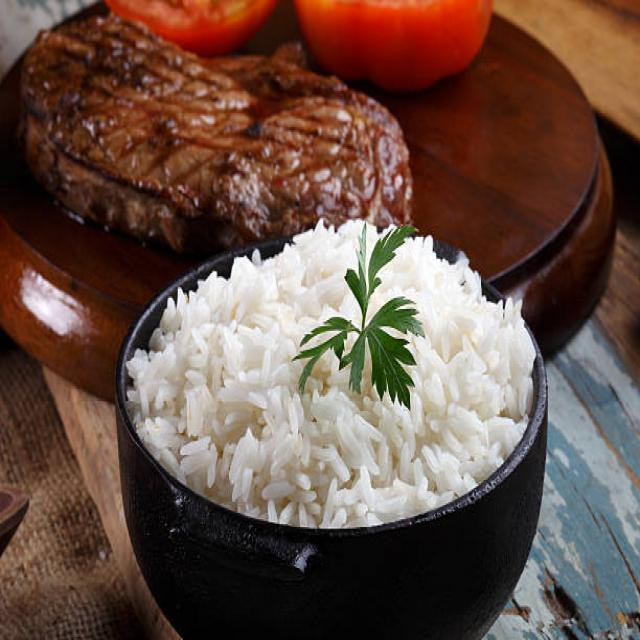rice: (124, 218, 534, 526)
